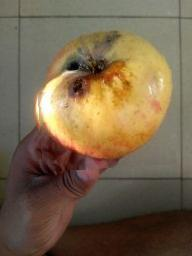Apple Rotten: (34, 24, 177, 172)
